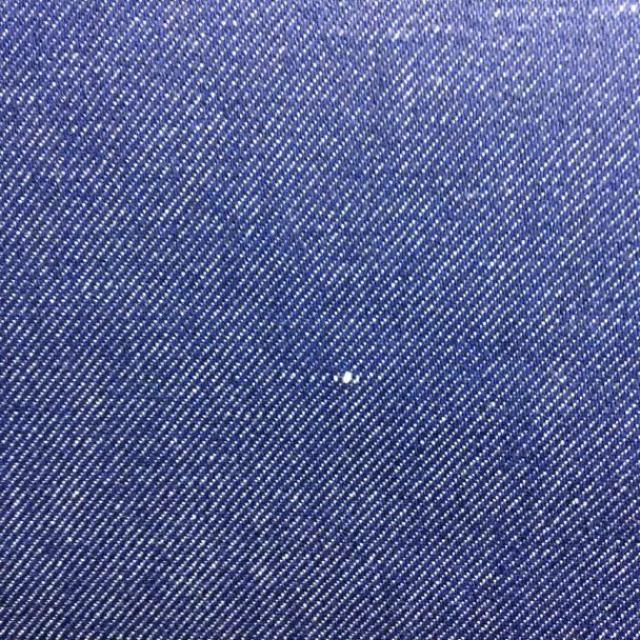Knot: (333, 372, 361, 385)
